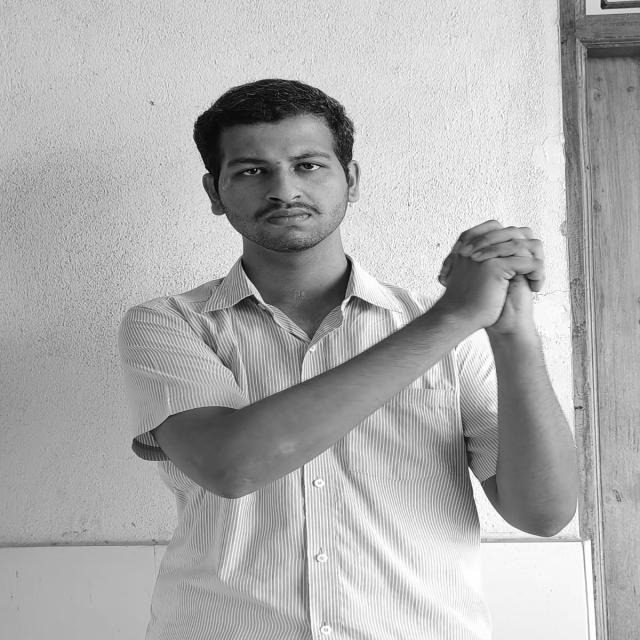Sorry: (435, 215, 550, 315)
